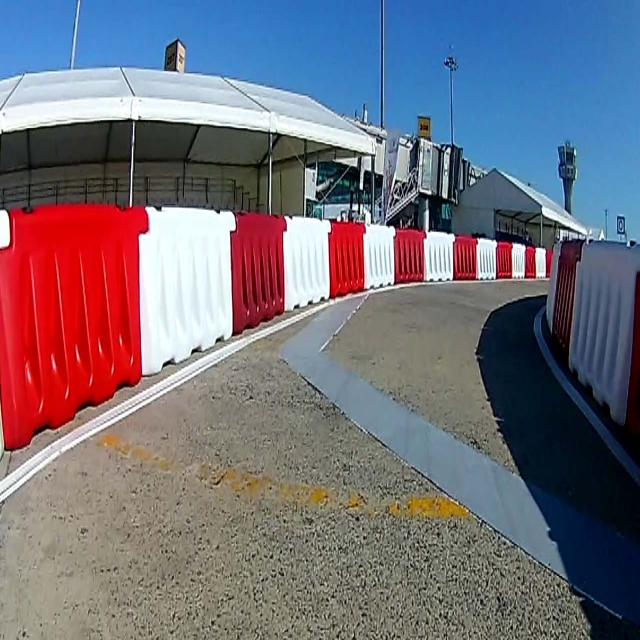durak: (617, 215, 625, 234)
